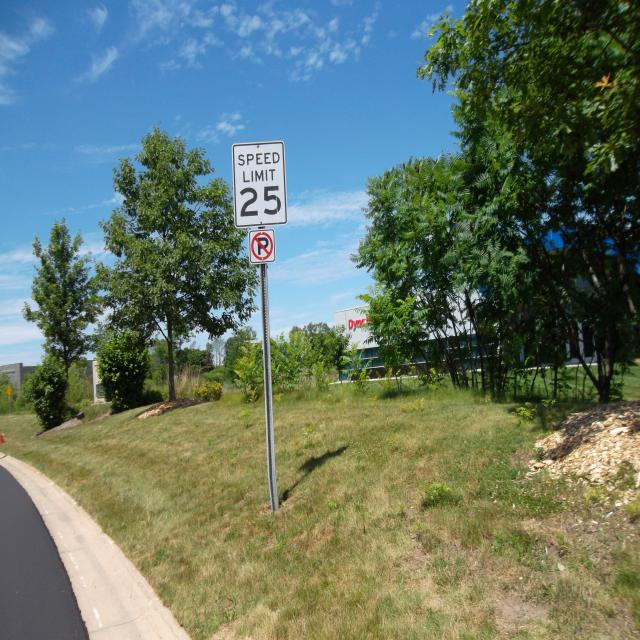regulatory: (232, 136, 290, 226), (248, 230, 276, 264)
